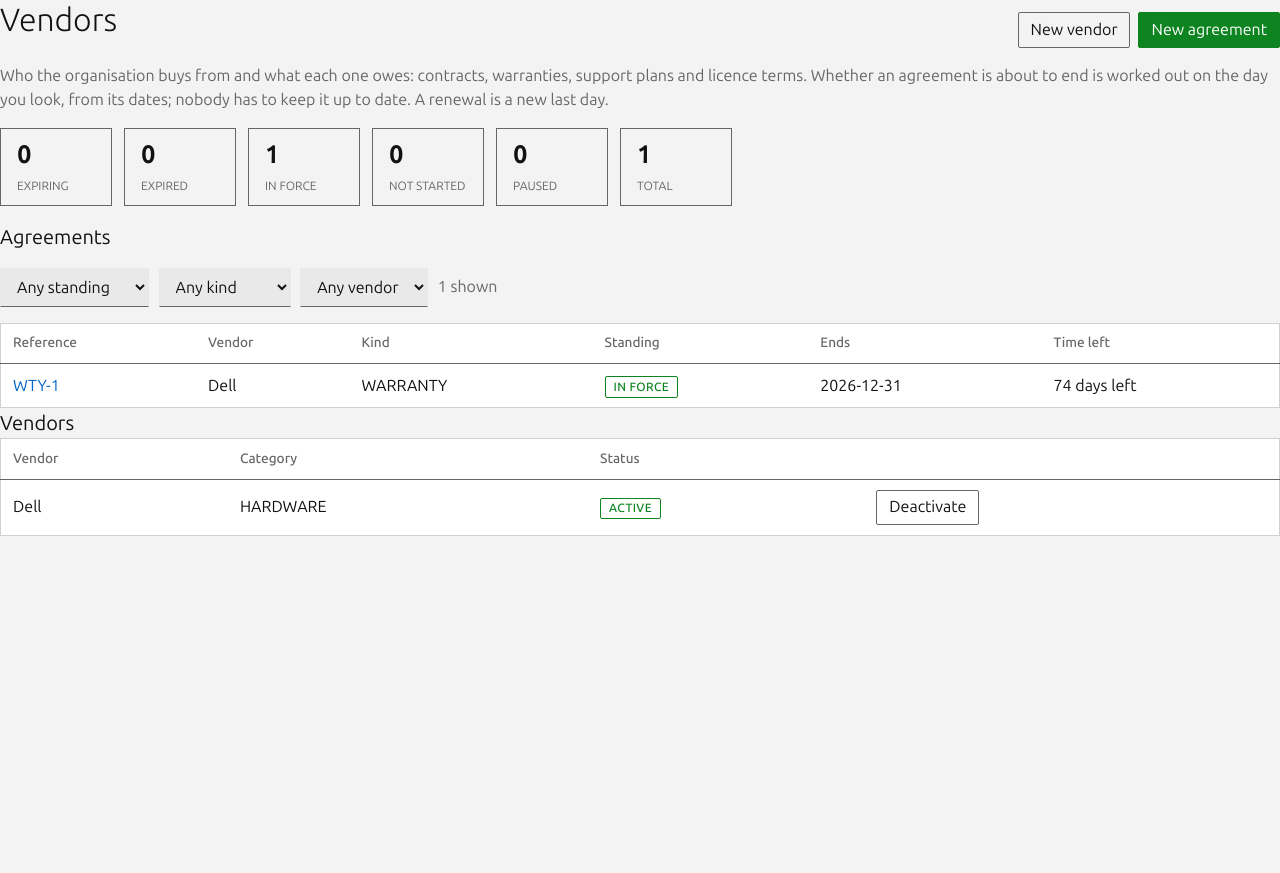
Test case: vendors › a network failure while registering a vendor is plain text
The width and height of the screenshot is (1280, 873).
Expected: the button "WTY-1" is shown, [13, 374, 60, 398]
Click the button "New vendor" at (1074, 30), box [1018, 12, 1130, 48]
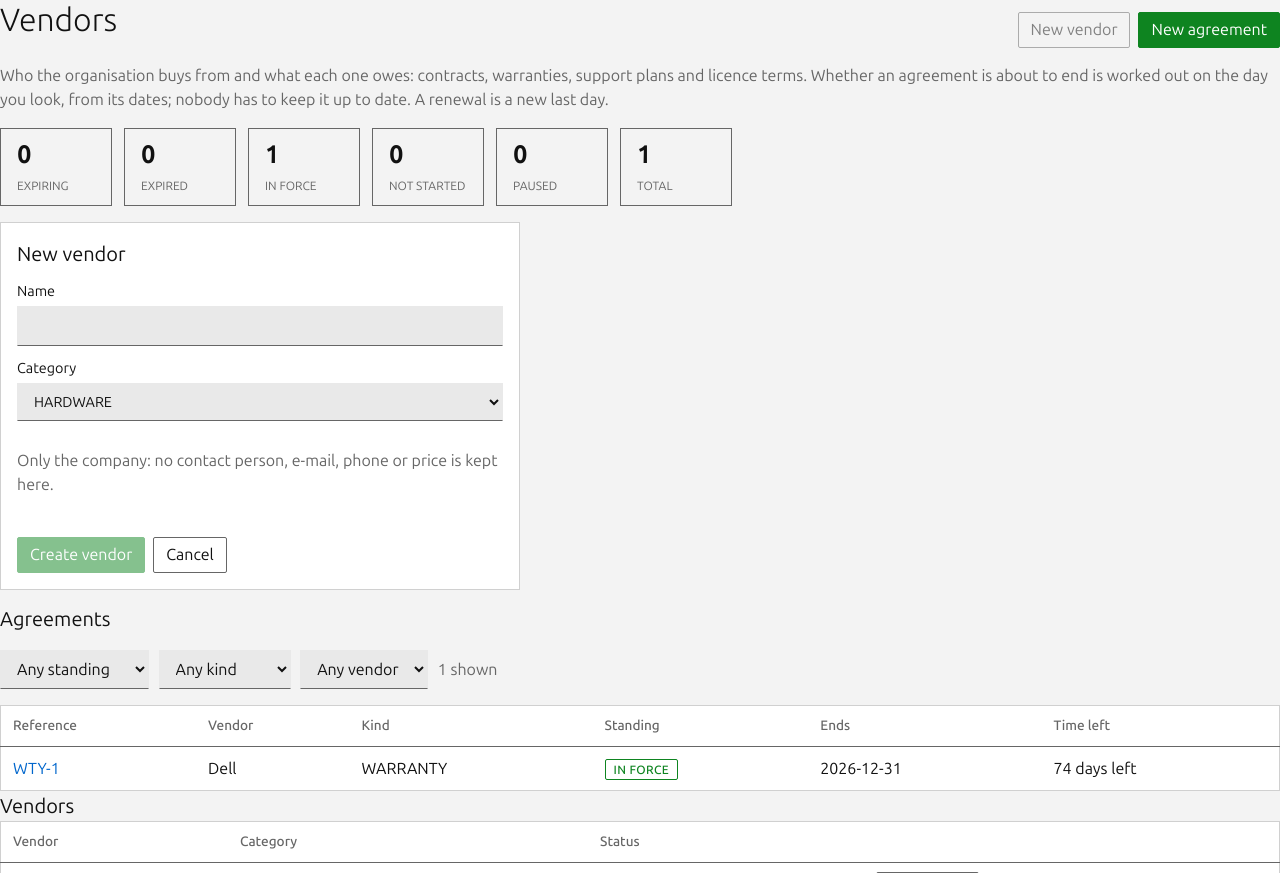
Type "X" into the field labelled "Name" at (260, 326), box [17, 306, 503, 346]
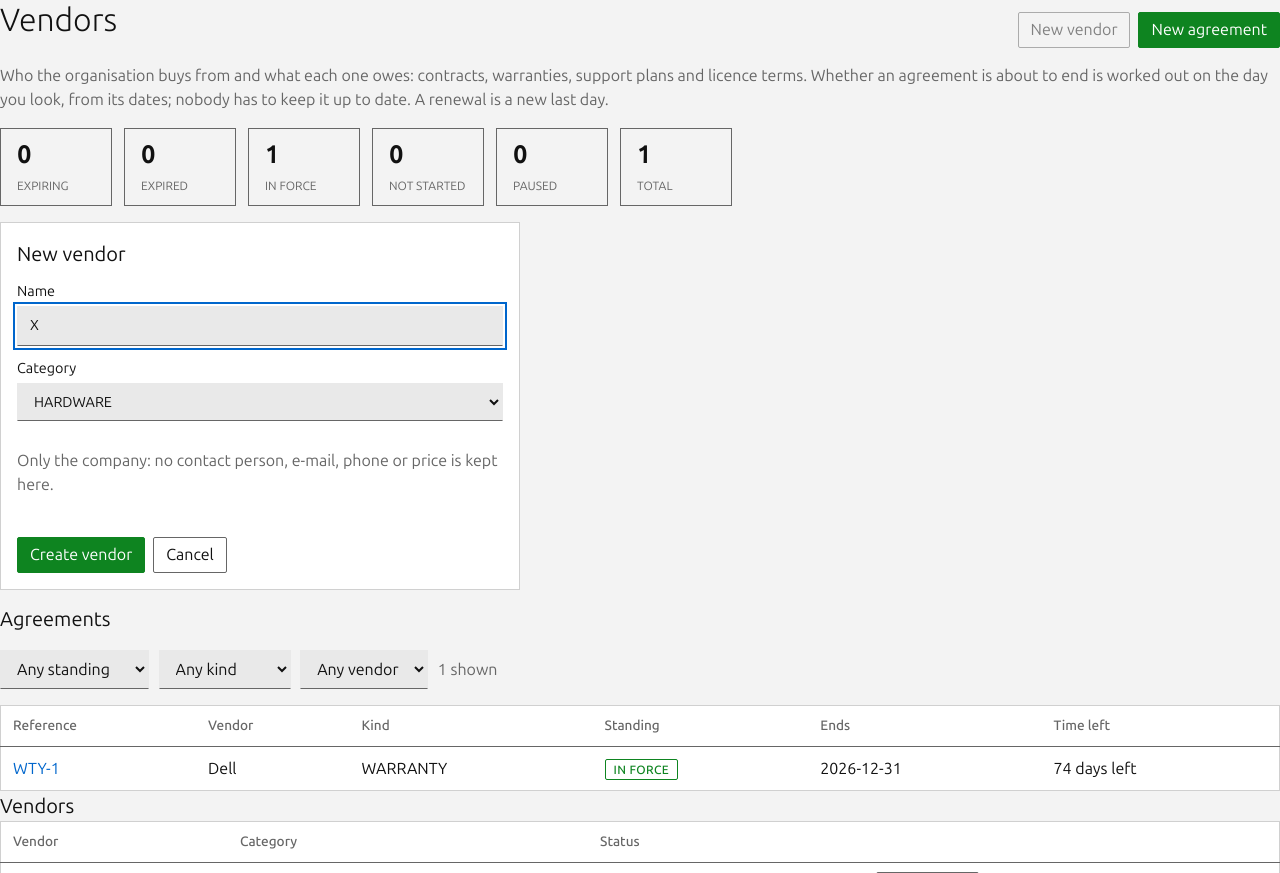
Click the button "Create vendor" at (81, 555), box [17, 537, 145, 573]
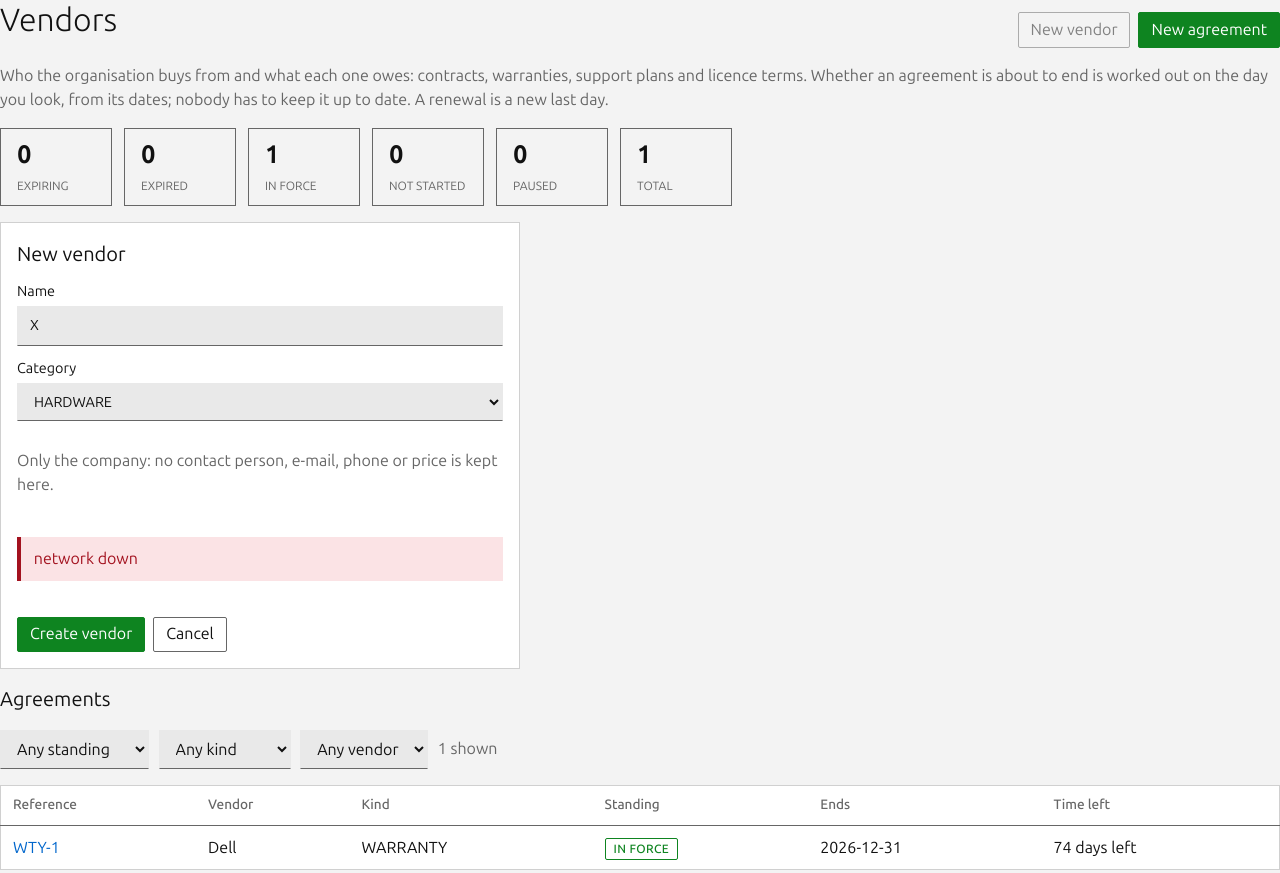
Now the text "network down" is shown, box [17, 537, 503, 581]
